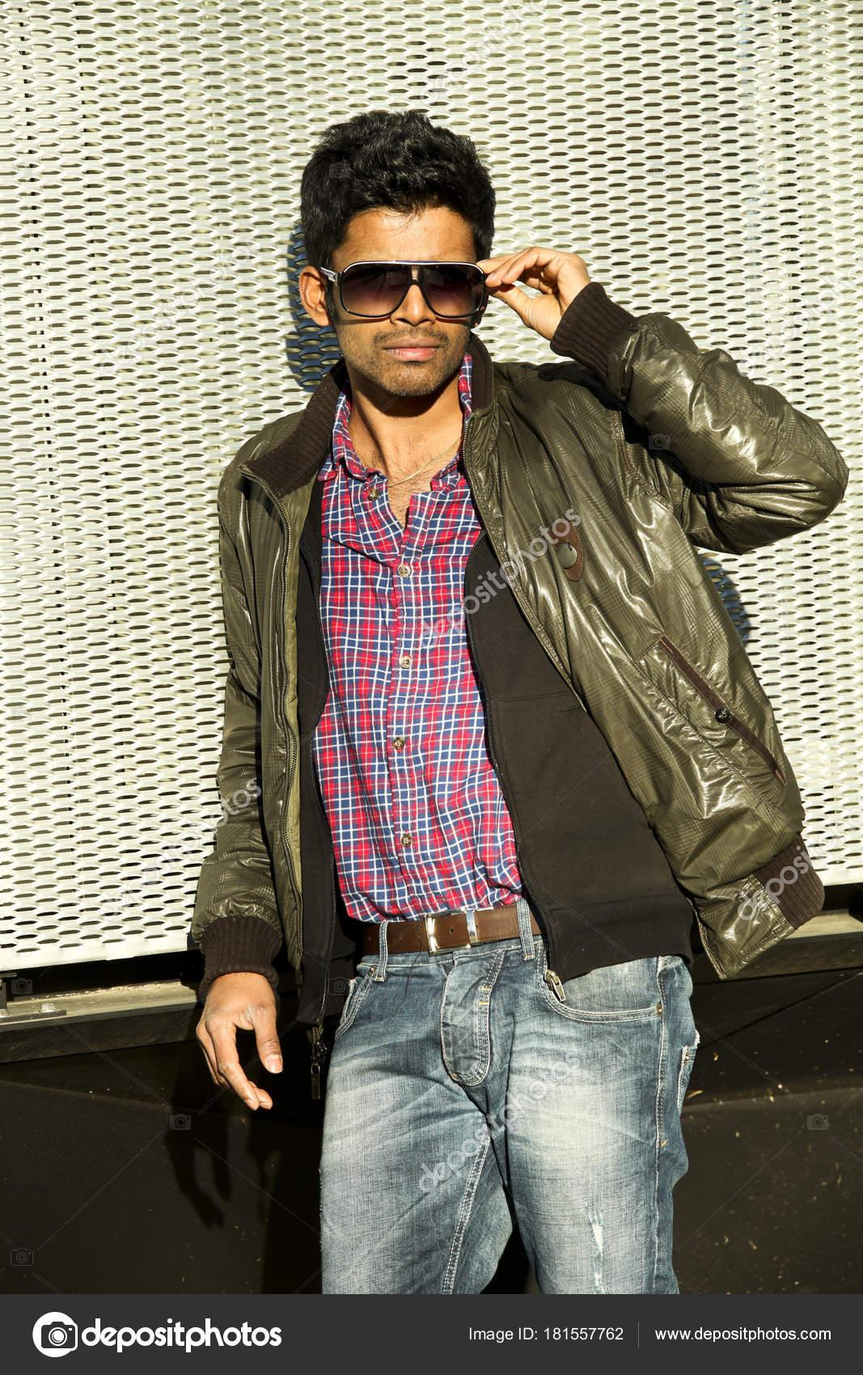sunglasses: (315, 251, 506, 344)
